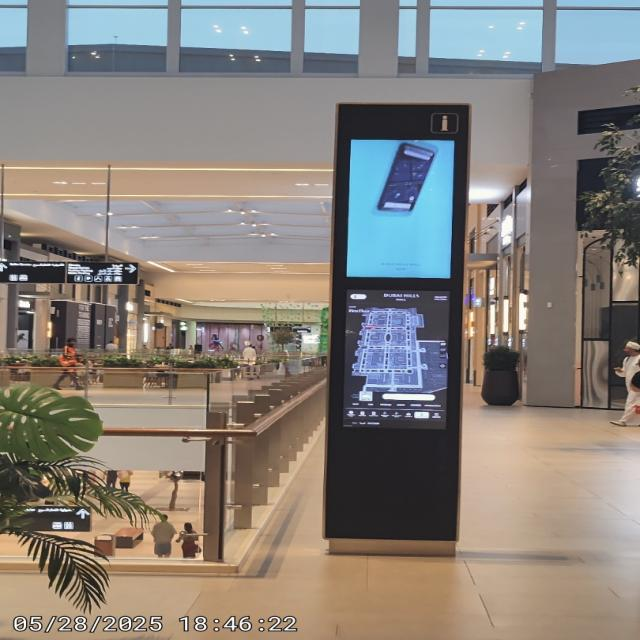mupi: (347, 141, 454, 277)
